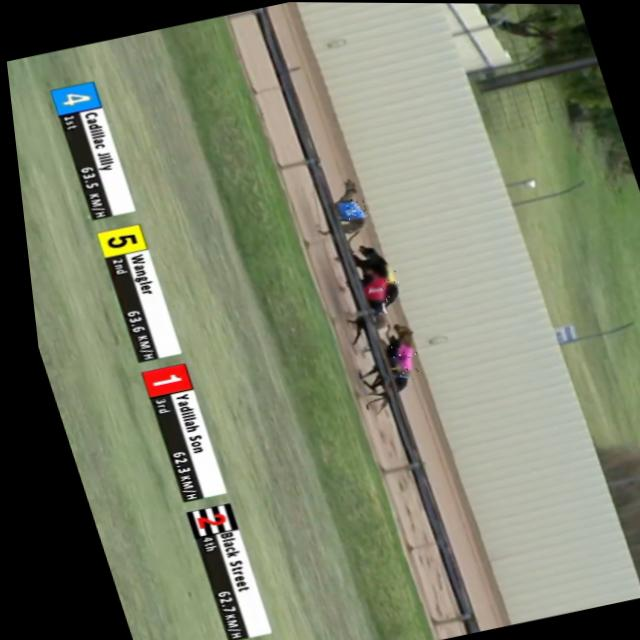dog_eight: (377, 339, 413, 376)
dog_five: (354, 262, 393, 292)
dog_four: (320, 196, 363, 225)
dog_one: (350, 276, 384, 306)
dog_seven: (371, 355, 399, 375)
rail: (253, 7, 464, 634)
